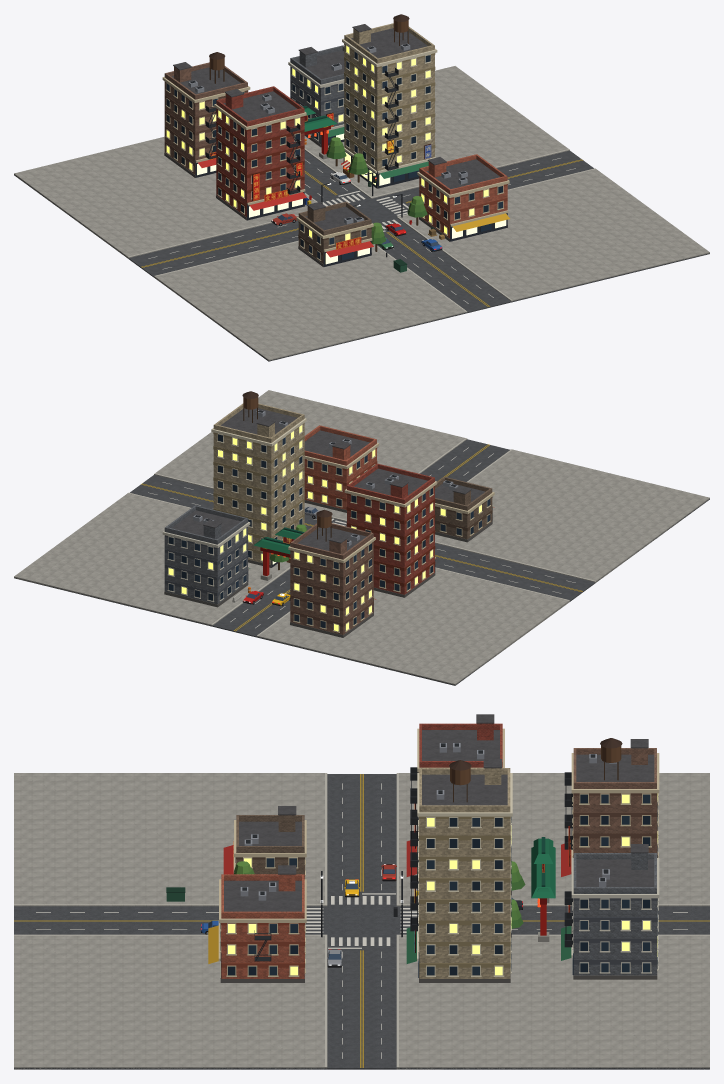
The picture shows the model from 3 angles, top to bottom: view 1: azimuth 30°, elevation 25°; view 2: azimuth 150°, elevation 25°; view 3: azimuth 270°, elevation 25°; orthographic projection. The views are drawn at different scales.
Visible parts, largest first — view 1: street, midrise, tenement, shop_w, rowhouse, lowshop, shop_e, arch; view 2: street, midrise, tenement, shop_w, shop_e, rowhouse, lowshop, arch; view 3: street, midrise, shop_e, shop_w, rowhouse, lowshop, tenement, arch.
Boxes of the visible parts, x1,y1,x2,y2 form: street: (14,66,709,361); midrise: (342,14,437,188); tenement: (214,86,306,220); shop_w: (162,52,250,177); rowhouse: (417,154,509,241); lowshop: (296,201,373,267); shop_e: (288,45,344,147); arch: (302,106,337,159); street: (14,390,709,685); midrise: (211,391,306,567); tenement: (344,463,437,597); shop_w: (288,509,375,637); shop_e: (162,505,250,607); rowhouse: (304,425,379,512); lowshop: (435,476,494,542); arch: (253,527,304,580); street: (14,773,709,1069); midrise: (406,759,512,982); shop_e: (561,844,659,979); shop_w: (561,738,659,876); rowhouse: (208,865,306,982); lowshop: (223,806,306,878); tenement: (406,714,504,876); arch: (531,837,555,941).
Bounding box in the file's own units: 92 × 30.96 × 92.
Materials: 102 (15 with a texture image).
